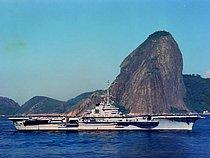MIL_Ship: (8, 87, 202, 132)
